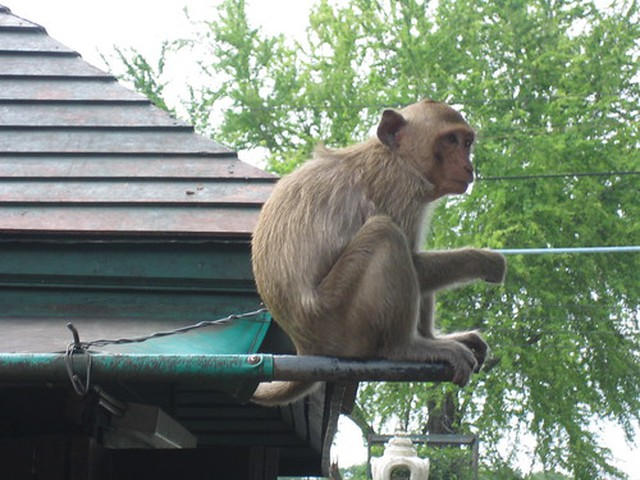Monkey: (249, 90, 523, 376)
